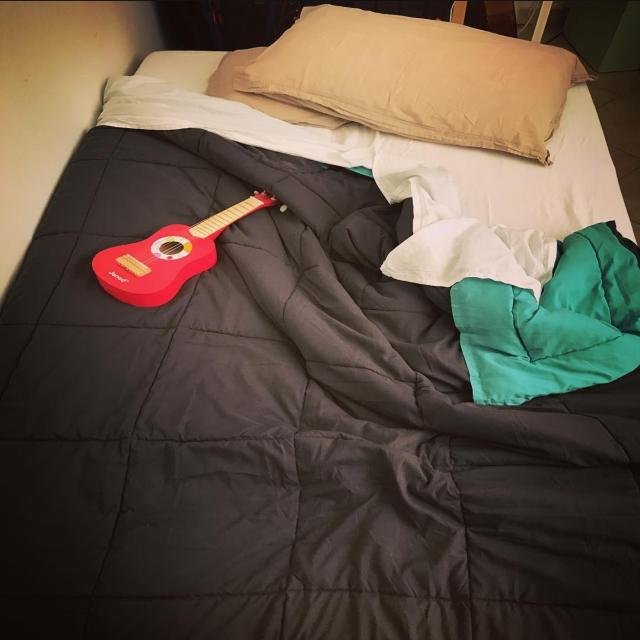bed: (0, 16, 621, 640)
